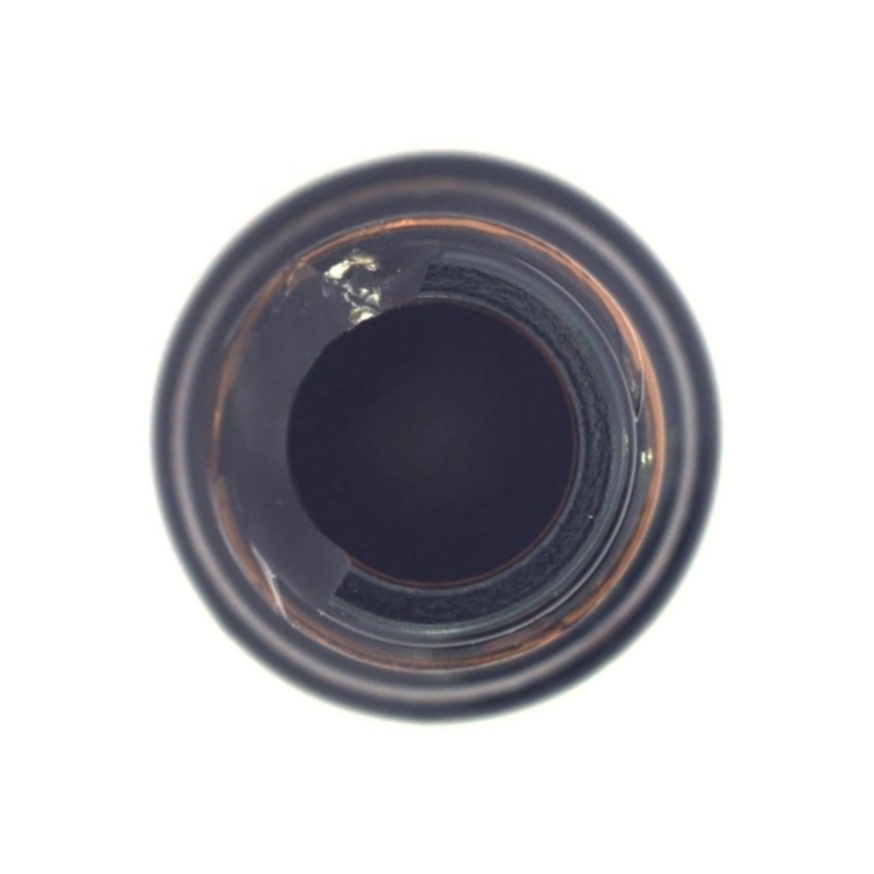bad-broken_large: (39, 39, 830, 833)
